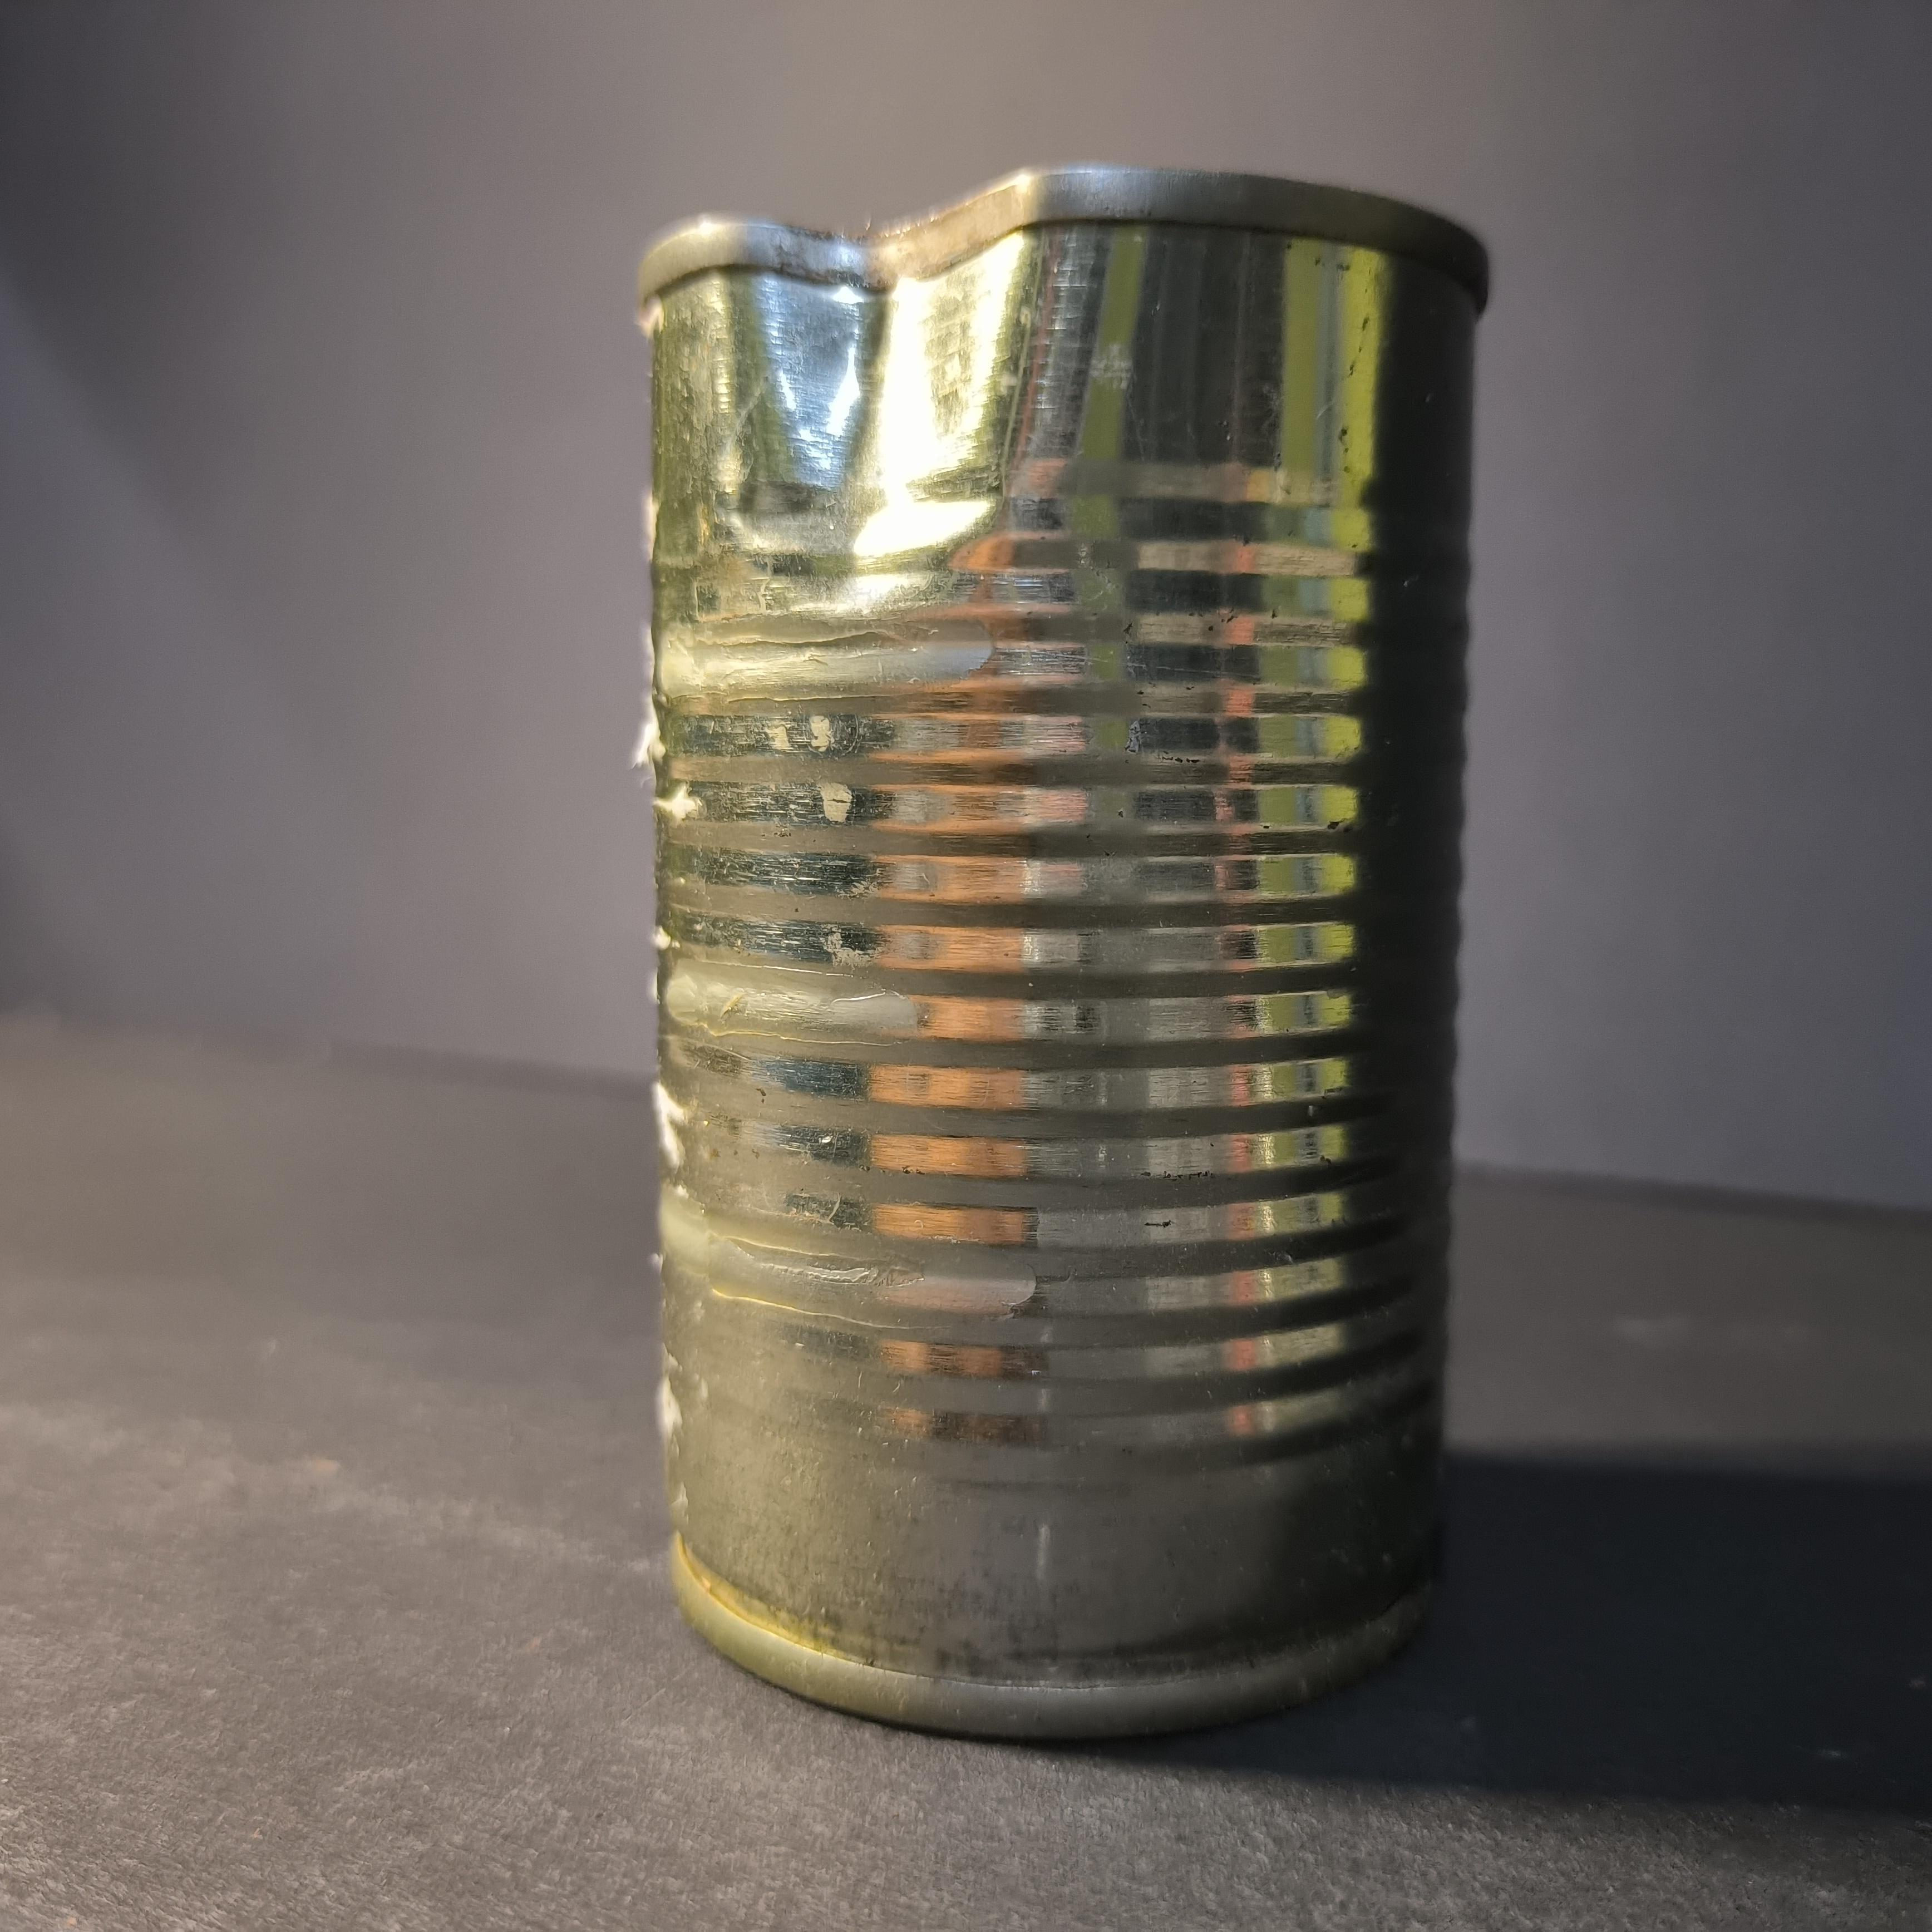Dented: (617, 133, 1493, 1730)
